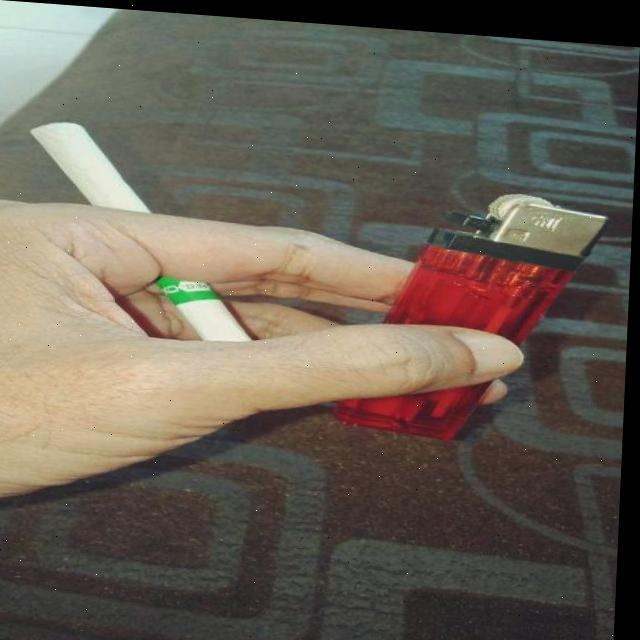cigarette: (22, 117, 261, 338)
